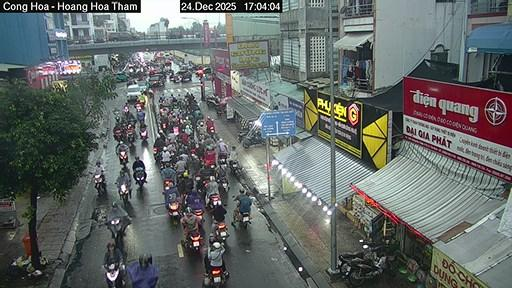motorbike: (336, 239, 383, 274), (348, 256, 386, 286), (202, 266, 227, 286), (105, 217, 122, 244), (105, 262, 122, 287), (182, 229, 201, 250), (242, 133, 265, 147), (167, 199, 179, 224), (205, 192, 220, 210), (214, 221, 227, 241), (93, 172, 105, 193), (134, 166, 144, 189), (118, 184, 128, 206), (236, 211, 249, 226), (230, 160, 239, 178), (138, 126, 147, 142), (218, 175, 226, 193), (236, 130, 248, 142), (217, 153, 227, 167), (118, 151, 127, 166), (240, 211, 249, 226), (207, 95, 217, 106), (192, 208, 201, 220), (127, 130, 134, 144), (114, 129, 122, 140), (134, 99, 144, 107), (153, 147, 159, 160), (163, 179, 170, 189), (207, 125, 214, 135), (172, 75, 182, 81), (124, 104, 128, 117)
